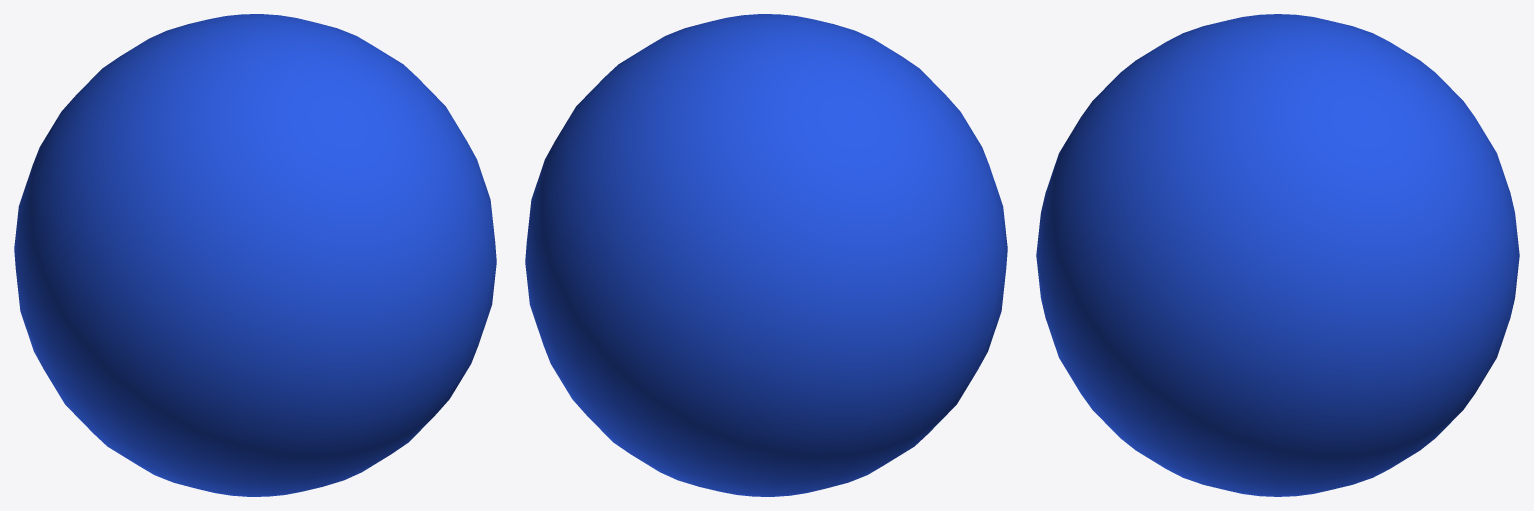
3 renders of one model, left to right at view 1: azimuth 30°, elevation 25°; view 2: azimuth 150°, elevation 25°; view 3: azimuth 270°, elevation 25°, orthographic.
Visible parts, largest first — view 1: Sphere; view 2: Sphere; view 3: Sphere.
Boxes of the visible parts, x1,y1,x2,y2 form: Sphere: (14, 14, 496, 496); Sphere: (525, 14, 1007, 496); Sphere: (1036, 14, 1519, 496).
Size of the model in its own units: 401 by 401 by 401.
